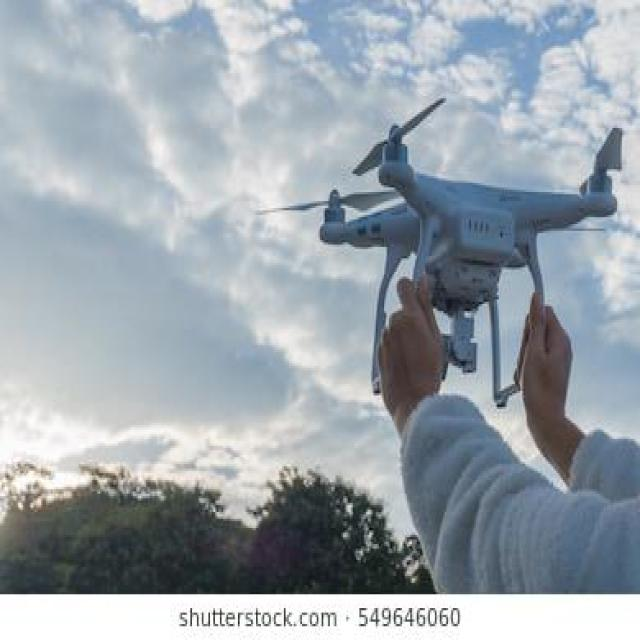drone: (236, 82, 635, 402)
